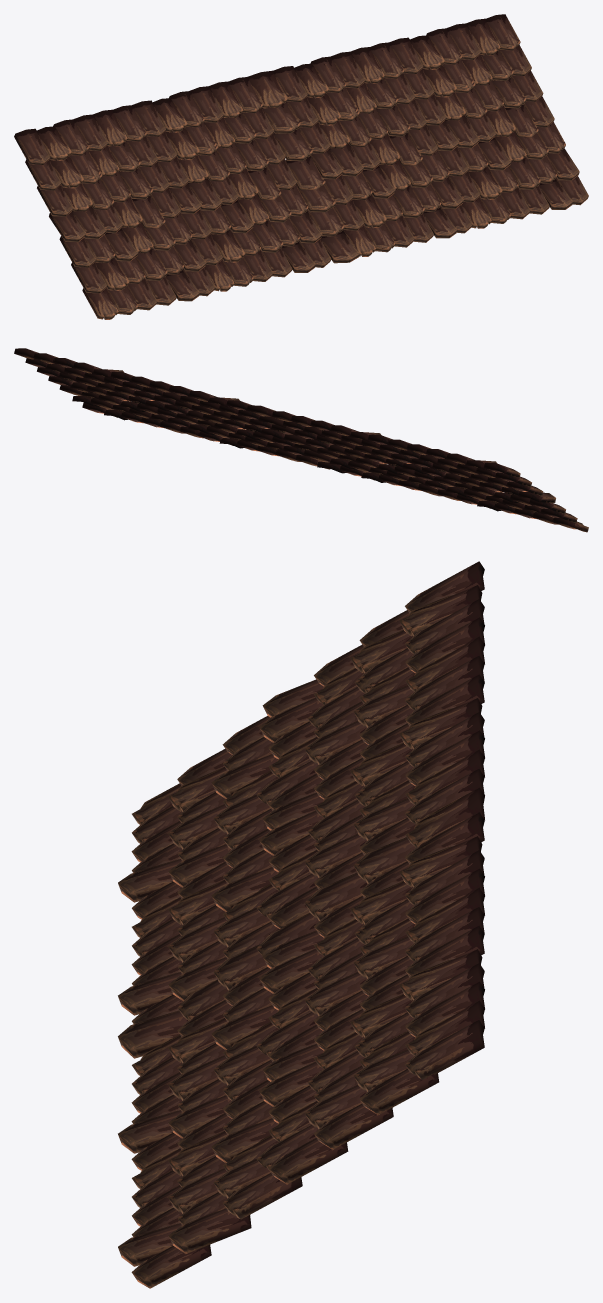
Rendered from VV-RoofTile16.fbx.
3 views of the same model, one above another, from view 1: azimuth 30°, elevation 25°; view 2: azimuth 150°, elevation 25°; view 3: azimuth 270°, elevation 25° (orthographic). The views are drawn at different scales.
Parts seen in each view (by area): view 1: RoofTile.16; view 2: RoofTile.16; view 3: RoofTile.16.
Boxes of the visible parts, box(x1,y1,x2,y2) form: RoofTile.16: box(14, 14, 588, 319); RoofTile.16: box(14, 348, 588, 532); RoofTile.16: box(118, 561, 484, 1288).
Size of the model in its own units: 7.62 by 1.91 by 2.47.
